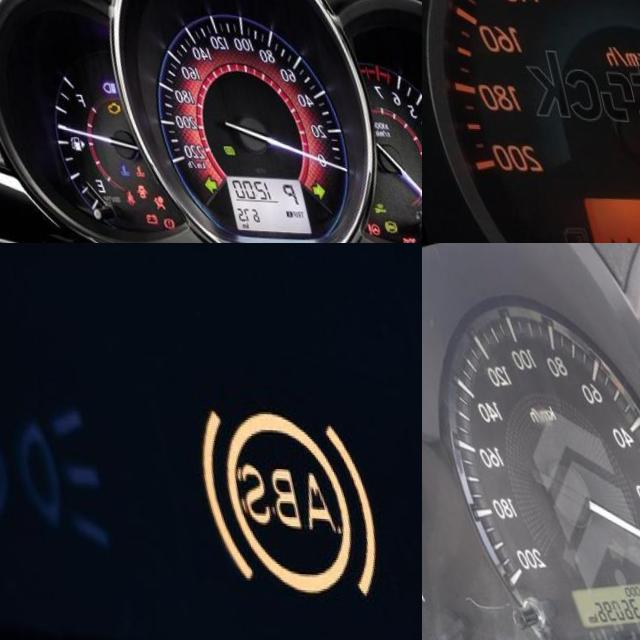Electronic Power Steering: (346, 218, 358, 231)
High Engine Coolant Temperature: (114, 163, 125, 175)
Seat Belt: (103, 189, 116, 204)
